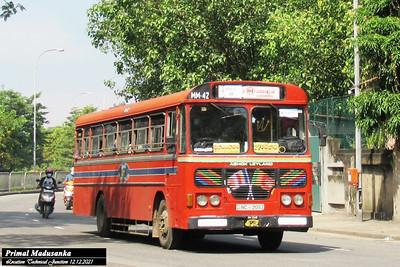bus: (74, 76, 314, 250)
motorbike: (37, 175, 57, 218)
